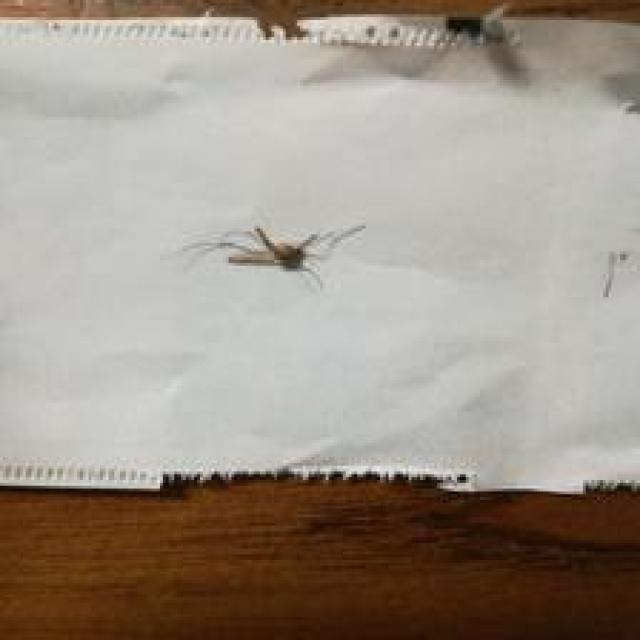Culex: (182, 221, 367, 290)
